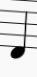D: (8, 4, 30, 61)
